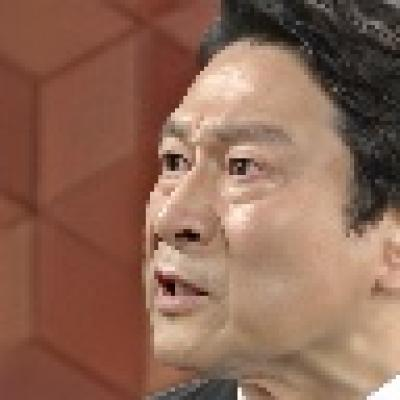angry: (144, 42, 364, 368)
